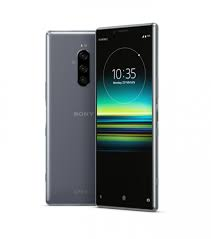sony: (91, 20, 161, 214), (44, 28, 95, 206)
